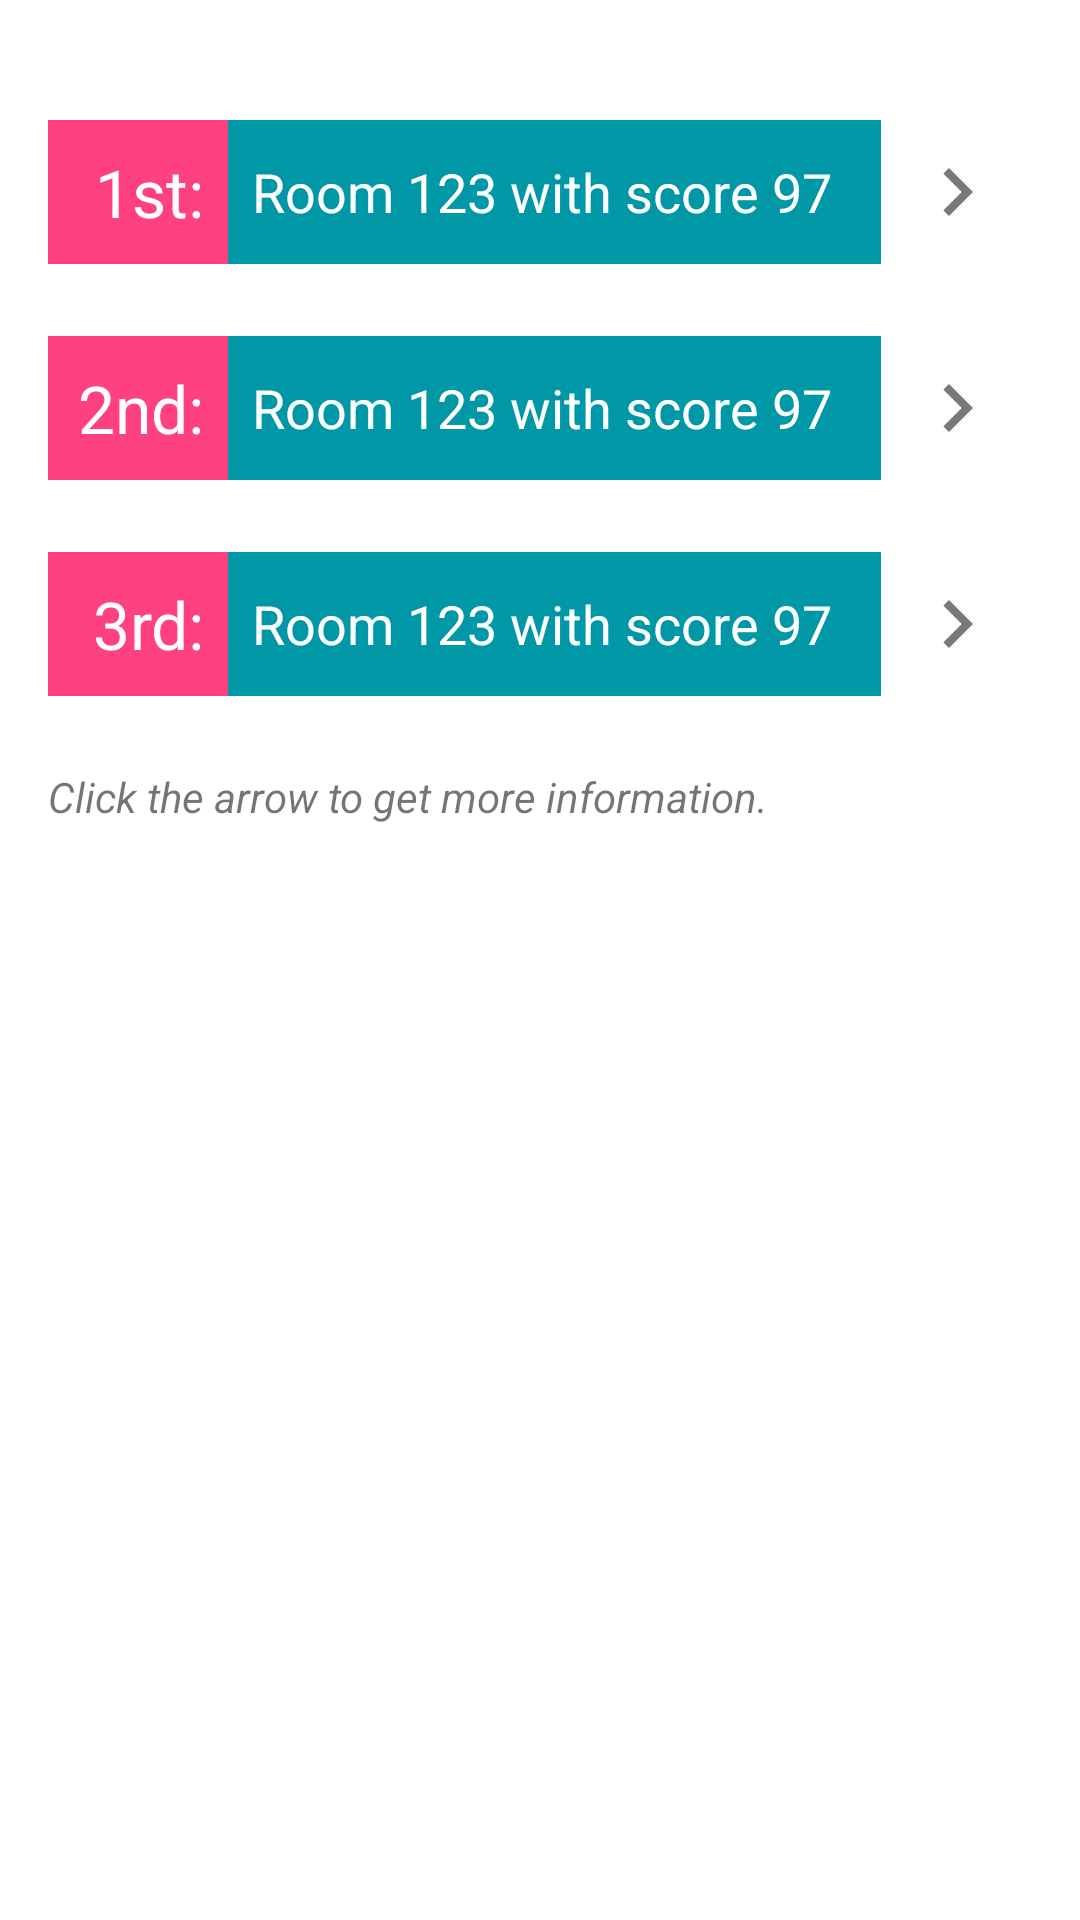

Icons on this 1080w x 1920h Android screen, each with its box as (x1, y1, x2, y2):
chevron right: (943, 168, 973, 216), (943, 384, 973, 432), (943, 600, 973, 648)
